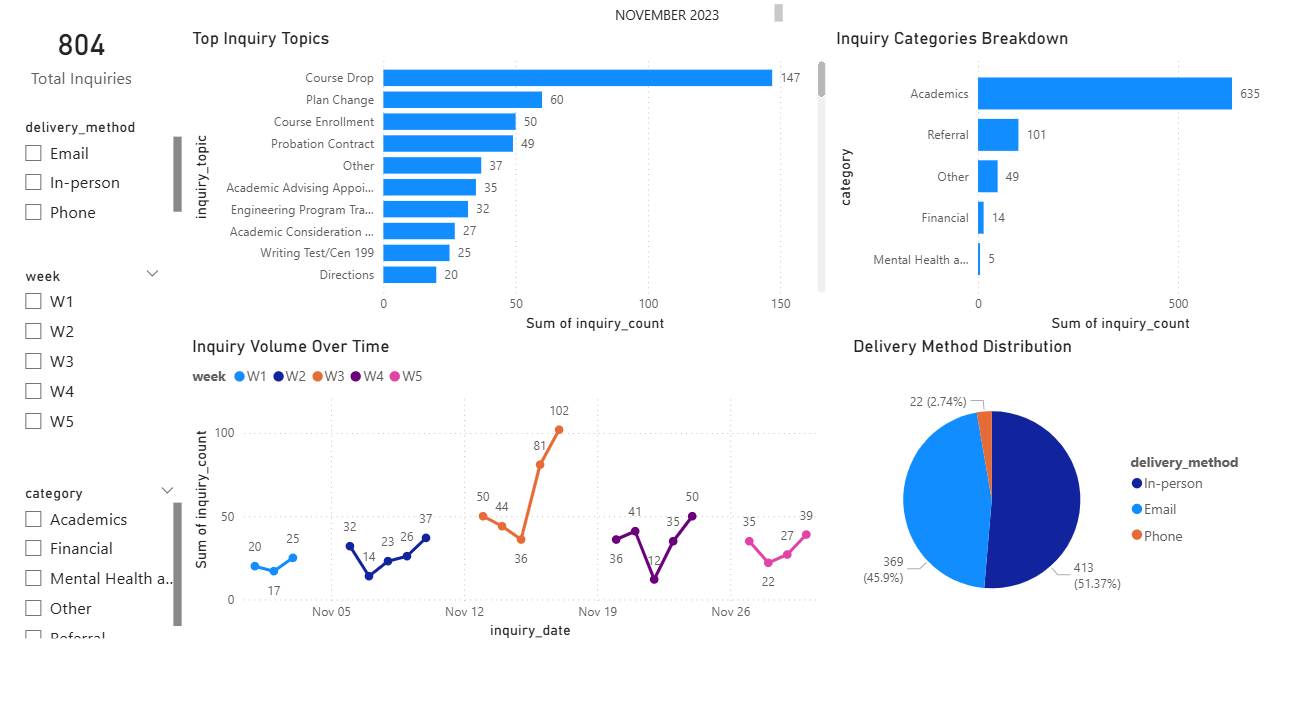

What the dashboard file says about the page in this screenshot:
{"tool":"powerbi","page":{"name":"Page 1","canvas":[1280,720],"ordinal":0},"visuals":[{"type":"card","title":"Total Inquiries","fields":{"Values":["Sum(september_master.inquiry_count)"]},"box":[21.4,13.6,135.2,93.4],"z":0},{"type":"barChart","title":"Top Inquiry Topics","fields":{"Category":["september_master.inquiry_topic"],"Y":["Sum(september_master.inquiry_count)"]},"box":[191.6,36,626.4,299.6],"z":1000},{"type":"lineChart","title":"Inquiry Volume Over Time","fields":{"Y":["Sum(september_master.inquiry_count)"],"Category":["september_master.inquiry_date"],"Series":["september_master.week"]},"box":[191.6,335.6,626.4,299.6],"z":2000},{"type":"slicer","fields":{"Values":["september_master.delivery_method"]},"box":[21.4,118.7,170.2,112.8],"z":3000},{"type":"pieChart","title":"Delivery Method Distribution","fields":{"Category":["september_master.delivery_method"],"Y":["Sum(september_master.inquiry_count)"]},"box":[834.5,335.6,399.8,299.6],"z":3001},{"type":"barChart","title":"Inquiry Categories Breakdown","fields":{"Category":["september_master.category"],"Y":["Sum(september_master.inquiry_count)"]},"box":[818,36,435.7,299.6],"z":3002},{"type":"slicer","fields":{"Values":["september_master.week"]},"box":[21.4,246.1,155.6,178],"z":3003},{"type":"slicer","fields":{"Values":["september_master.category"]},"box":[21.4,431.9,188.7,178],"z":3004}]}

Visuals, with their boxes in screenshot pixels (x1, y1, x2, y2), scaled from the page's 1280x720 canvas onto the 1293x720 screenshot:
"Total Inquiries" card: 22 14 158 107
"Top Inquiry Topics" barChart: 194 36 826 336
"Inquiry Volume Over Time" lineChart: 194 336 826 635
slicer - september_master.delivery_method: 22 119 194 232
"Delivery Method Distribution" pieChart: 843 336 1247 635
"Inquiry Categories Breakdown" barChart: 826 36 1266 336
slicer - september_master.week: 22 246 179 424
slicer - september_master.category: 22 432 212 610
